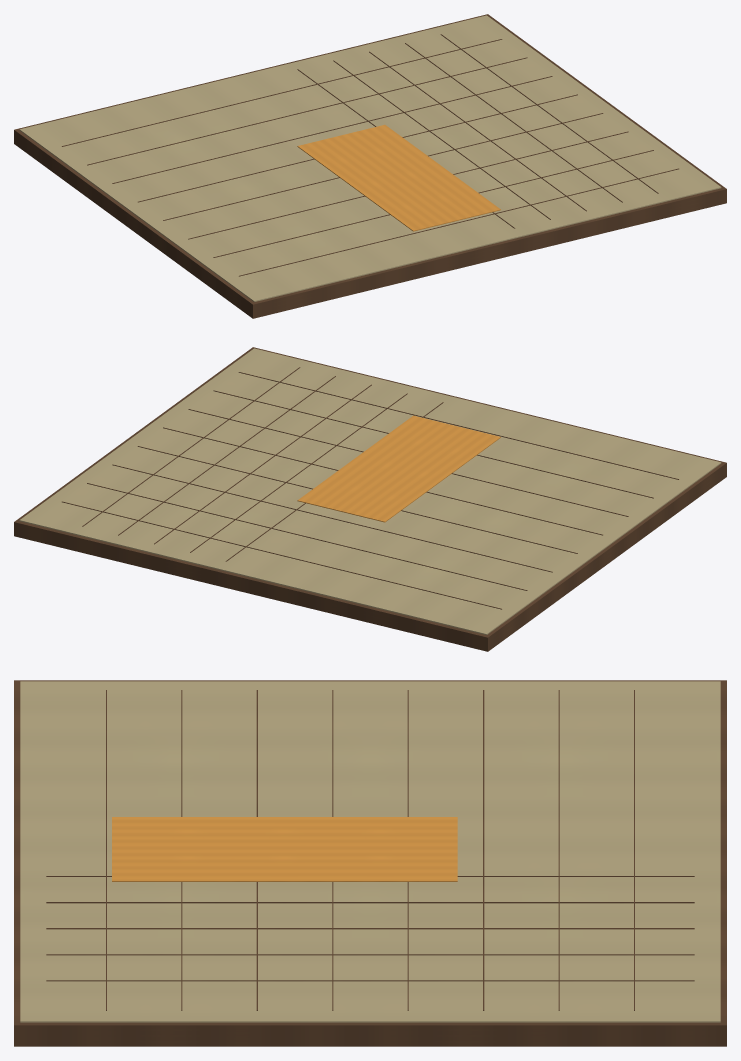
File: atlas100-s012-a07.lod2.glb
3 renders of one model, top to bottom at view 1: azimuth 30°, elevation 25°; view 2: azimuth 150°, elevation 25°; view 3: azimuth 270°, elevation 25°, orthographic. The views are drawn at different scales.
Visible parts, largest first — view 1: atlas100-s012-a07:part-001, atlas100-s012-a07:part-000, atlas100-s012-a07:part-021, atlas100-s012-a07:part-014, atlas100-s012-a07:part-020, atlas100-s012-a07:part-015, atlas100-s012-a07:part-013, atlas100-s012-a07:part-018, atlas100-s012-a07:part-019, atlas100-s012-a07:part-017, atlas100-s012-a07:part-016; view 2: atlas100-s012-a07:part-001, atlas100-s012-a07:part-000, atlas100-s012-a07:part-021, atlas100-s012-a07:part-015, atlas100-s012-a07:part-013, atlas100-s012-a07:part-014, atlas100-s012-a07:part-020, atlas100-s012-a07:part-016, atlas100-s012-a07:part-017, atlas100-s012-a07:part-018, atlas100-s012-a07:part-019; view 3: atlas100-s012-a07:part-001, atlas100-s012-a07:part-000, atlas100-s012-a07:part-021, atlas100-s012-a07:part-009, atlas100-s012-a07:part-010, atlas100-s012-a07:part-011, atlas100-s012-a07:part-012, atlas100-s012-a07:part-014, atlas100-s012-a07:part-015.
Boxes of the visible parts, <box> form: atlas100-s012-a07:part-001: <box>19,15,721,301</box>; atlas100-s012-a07:part-000: <box>14,14,726,318</box>; atlas100-s012-a07:part-021: <box>297,124,500,231</box>; atlas100-s012-a07:part-014: <box>87,57,527,165</box>; atlas100-s012-a07:part-020: <box>239,168,678,276</box>; atlas100-s012-a07:part-015: <box>112,76,552,183</box>; atlas100-s012-a07:part-013: <box>62,39,502,146</box>; atlas100-s012-a07:part-018: <box>188,131,628,239</box>; atlas100-s012-a07:part-019: <box>213,150,653,257</box>; atlas100-s012-a07:part-017: <box>163,113,603,220</box>; atlas100-s012-a07:part-016: <box>138,94,577,202</box>; atlas100-s012-a07:part-001: <box>19,348,721,634</box>; atlas100-s012-a07:part-000: <box>14,347,726,651</box>; atlas100-s012-a07:part-021: <box>297,415,500,522</box>; atlas100-s012-a07:part-015: <box>112,464,552,572</box>; atlas100-s012-a07:part-013: <box>62,501,501,609</box>; atlas100-s012-a07:part-014: <box>87,483,527,590</box>; atlas100-s012-a07:part-020: <box>238,372,678,479</box>; atlas100-s012-a07:part-016: <box>137,446,577,553</box>; atlas100-s012-a07:part-017: <box>163,427,602,535</box>; atlas100-s012-a07:part-018: <box>188,409,628,516</box>; atlas100-s012-a07:part-019: <box>213,390,653,498</box>; atlas100-s012-a07:part-001: <box>20,681,720,1022</box>; atlas100-s012-a07:part-000: <box>14,680,726,1046</box>; atlas100-s012-a07:part-021: <box>112,817,457,881</box>; atlas100-s012-a07:part-009: <box>46,902,694,903</box>; atlas100-s012-a07:part-010: <box>46,928,694,929</box>; atlas100-s012-a07:part-011: <box>46,954,694,955</box>; atlas100-s012-a07:part-012: <box>46,980,694,981</box>; atlas100-s012-a07:part-014: <box>558,690,559,1010</box>; atlas100-s012-a07:part-015: <box>483,690,484,1010</box>.
Bounding box in the file's own units: 11.9 × 0.404 × 10.4.
Materials: 3 (3 with a texture image).
